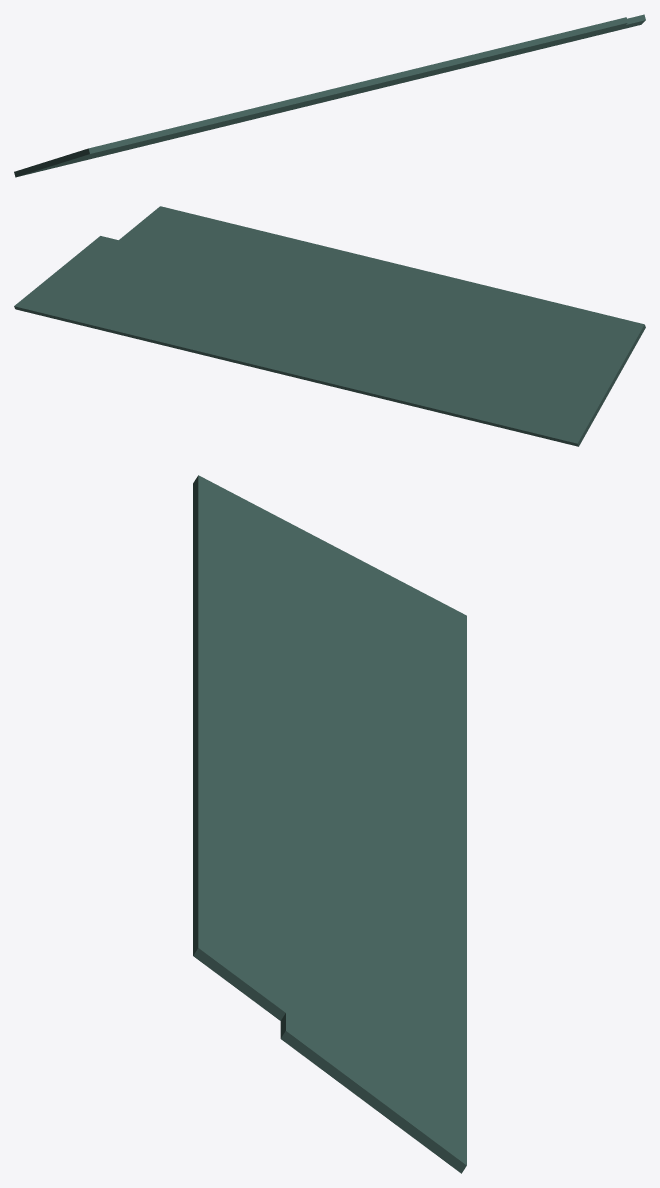
3 views of the same model, one above another, from view 1: azimuth 30°, elevation 25°; view 2: azimuth 150°, elevation 25°; view 3: azimuth 270°, elevation 25° (orthographic). The views are drawn at different scales.
Visible parts, largest first — view 1: B-ROOF-3-1; view 2: B-ROOF-3-1; view 3: B-ROOF-3-1.
Boxes of the visible parts, x1,y1,x2,y2 form: B-ROOF-3-1: (14,14,645,177); B-ROOF-3-1: (14,206,645,446); B-ROOF-3-1: (193,475,466,1173).
Bounding box in the file's own units: 13.03 × 1.64 × 2.74.
